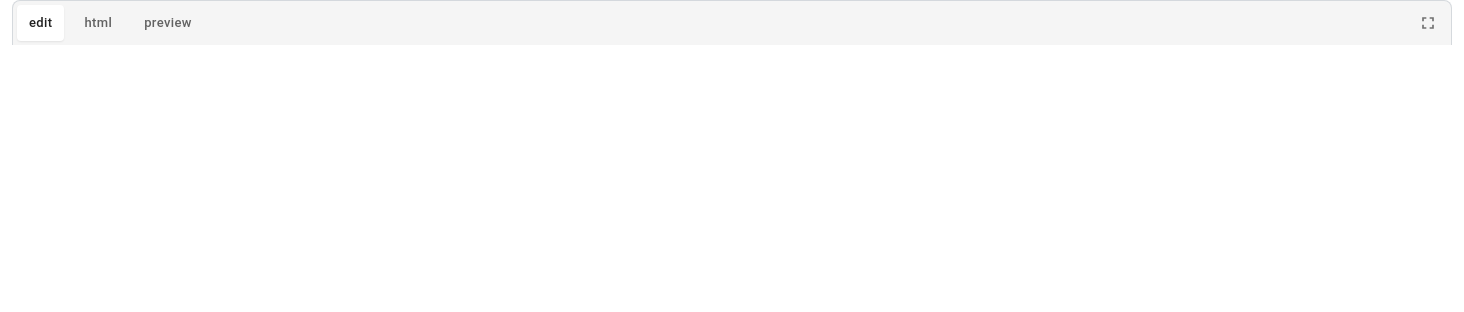
HtmlEditor › displays value in html textarea
Click the tab "html" at (98, 23), box [72,5,124,41]
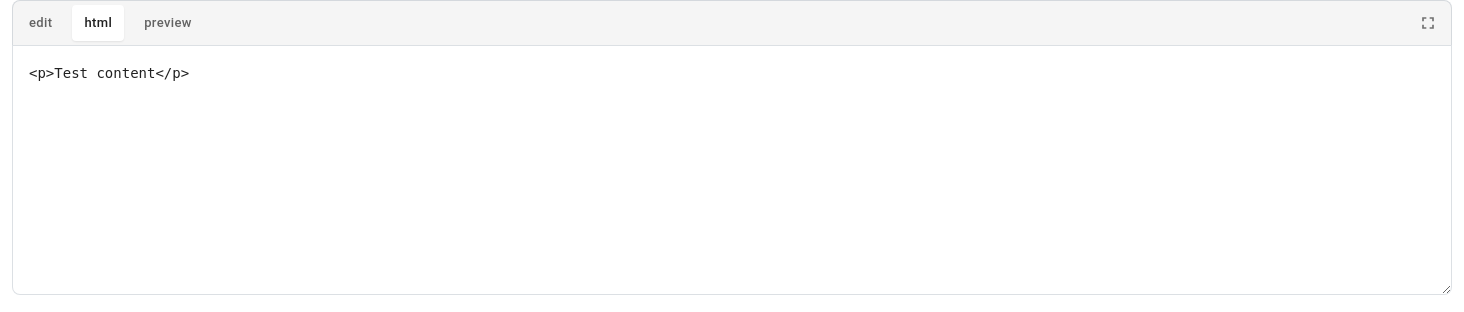
Result: the text box holds "<p>Test content</p>"
